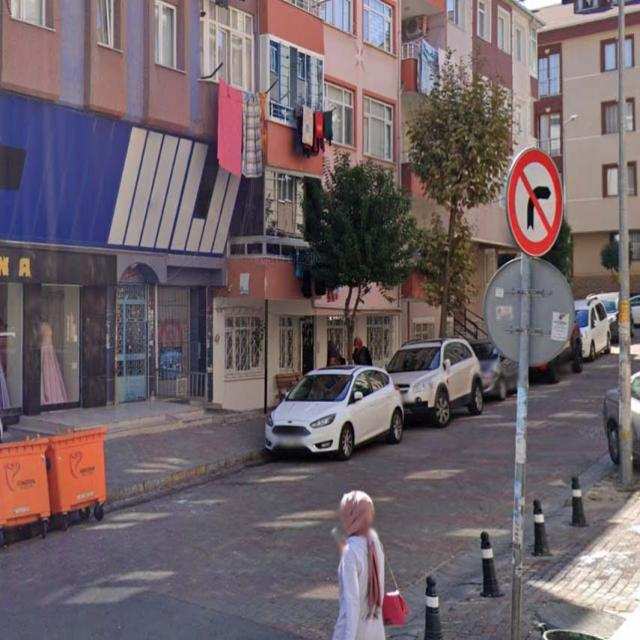sagadonulmez: (507, 150, 563, 257)
